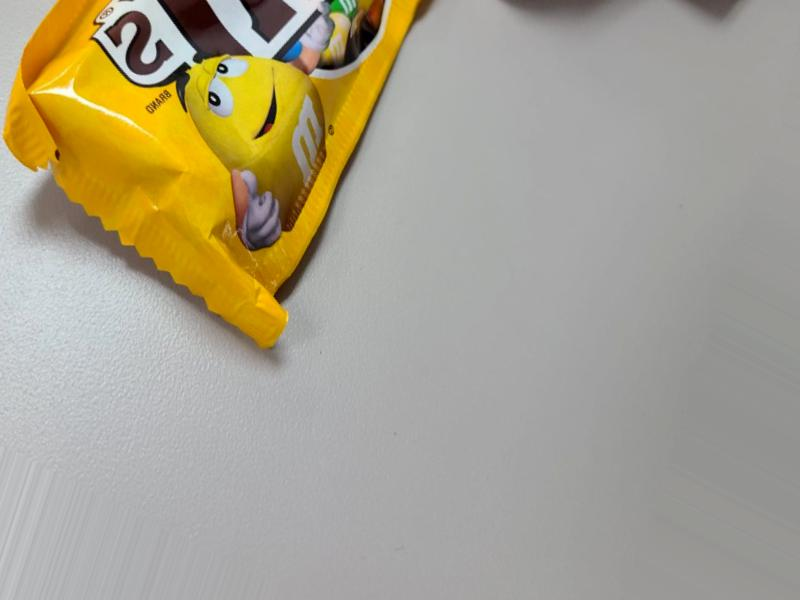m&m: (64, 25, 392, 344)
